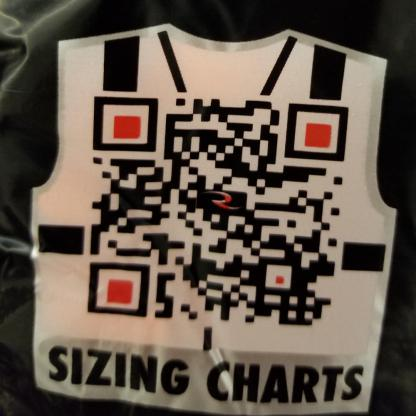qr: (85, 92, 342, 334)
